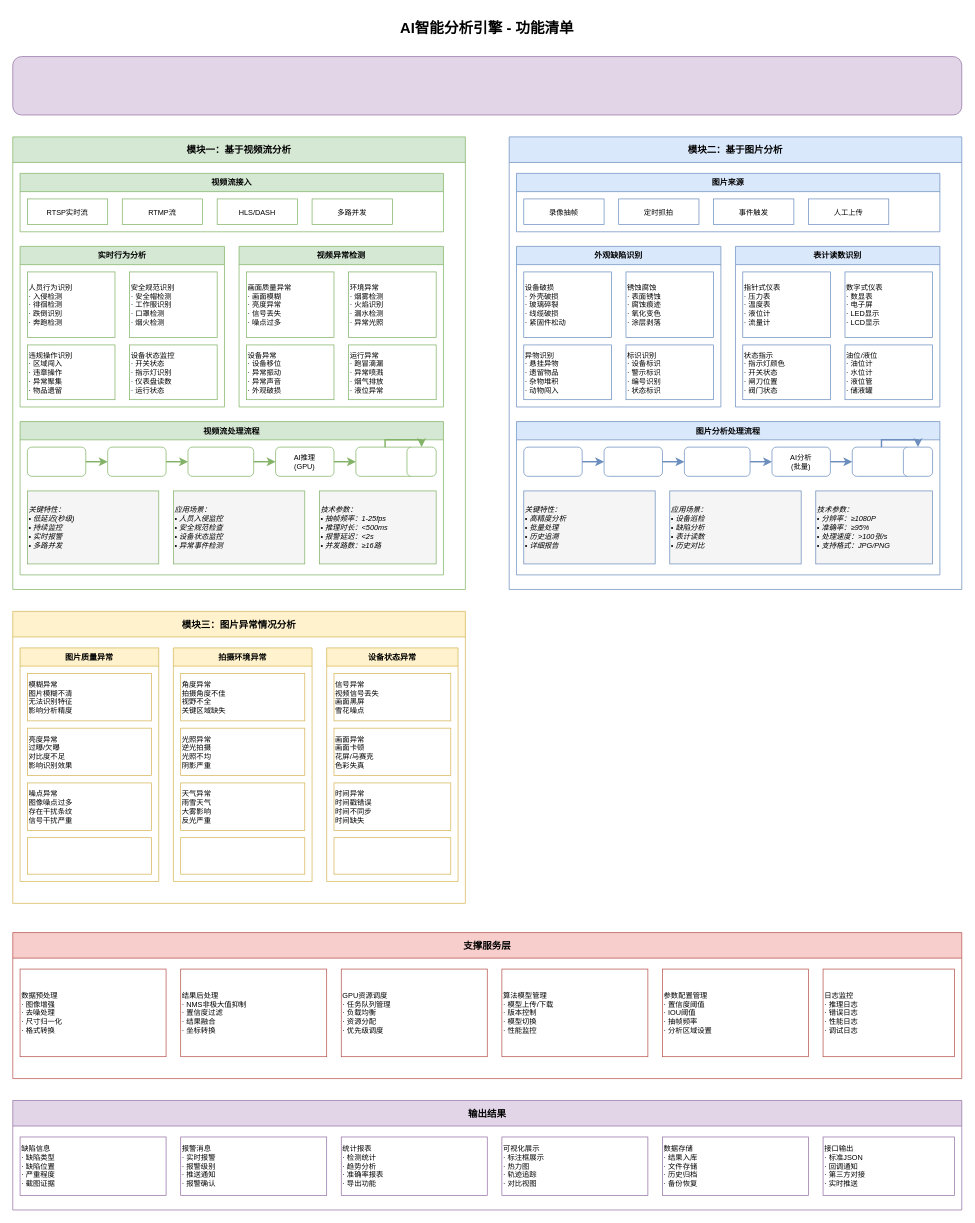
The diagram is 975 pixels wide and 1223 high, and some of its shapes have lost their labels. The shapes that lost their labels are listed below. From the top down, each one's centre as x and y in pixels, then its label:
At point 487,85: "AI智能分析引擎核心 (GPU推理服务)".
At point 56,461: "视频流 接入".
At point 136,461: "实时 抽帧".
At point 220,461: "预处理 (增强/去噪)".
At point 384,461: "结果 处理".
At point 421,461: "实时 报警".
At point 552,461: "图片 获取".
At point 632,461: "质量 检测".
At point 717,461: "预处理 (增强/校正)".
At point 881,461: "结果 汇总".
At point 918,461: "报告 生成".
At point 89,855: "遮挡异常 镜头遮挡 视野受限 目标被遮挡".
At point 242,855: "设备异常 镜头污损 摄像头移位 焦距不准".
At point 392,855: "存储异常 录像丢失 文件损坏 存储空间不足".
